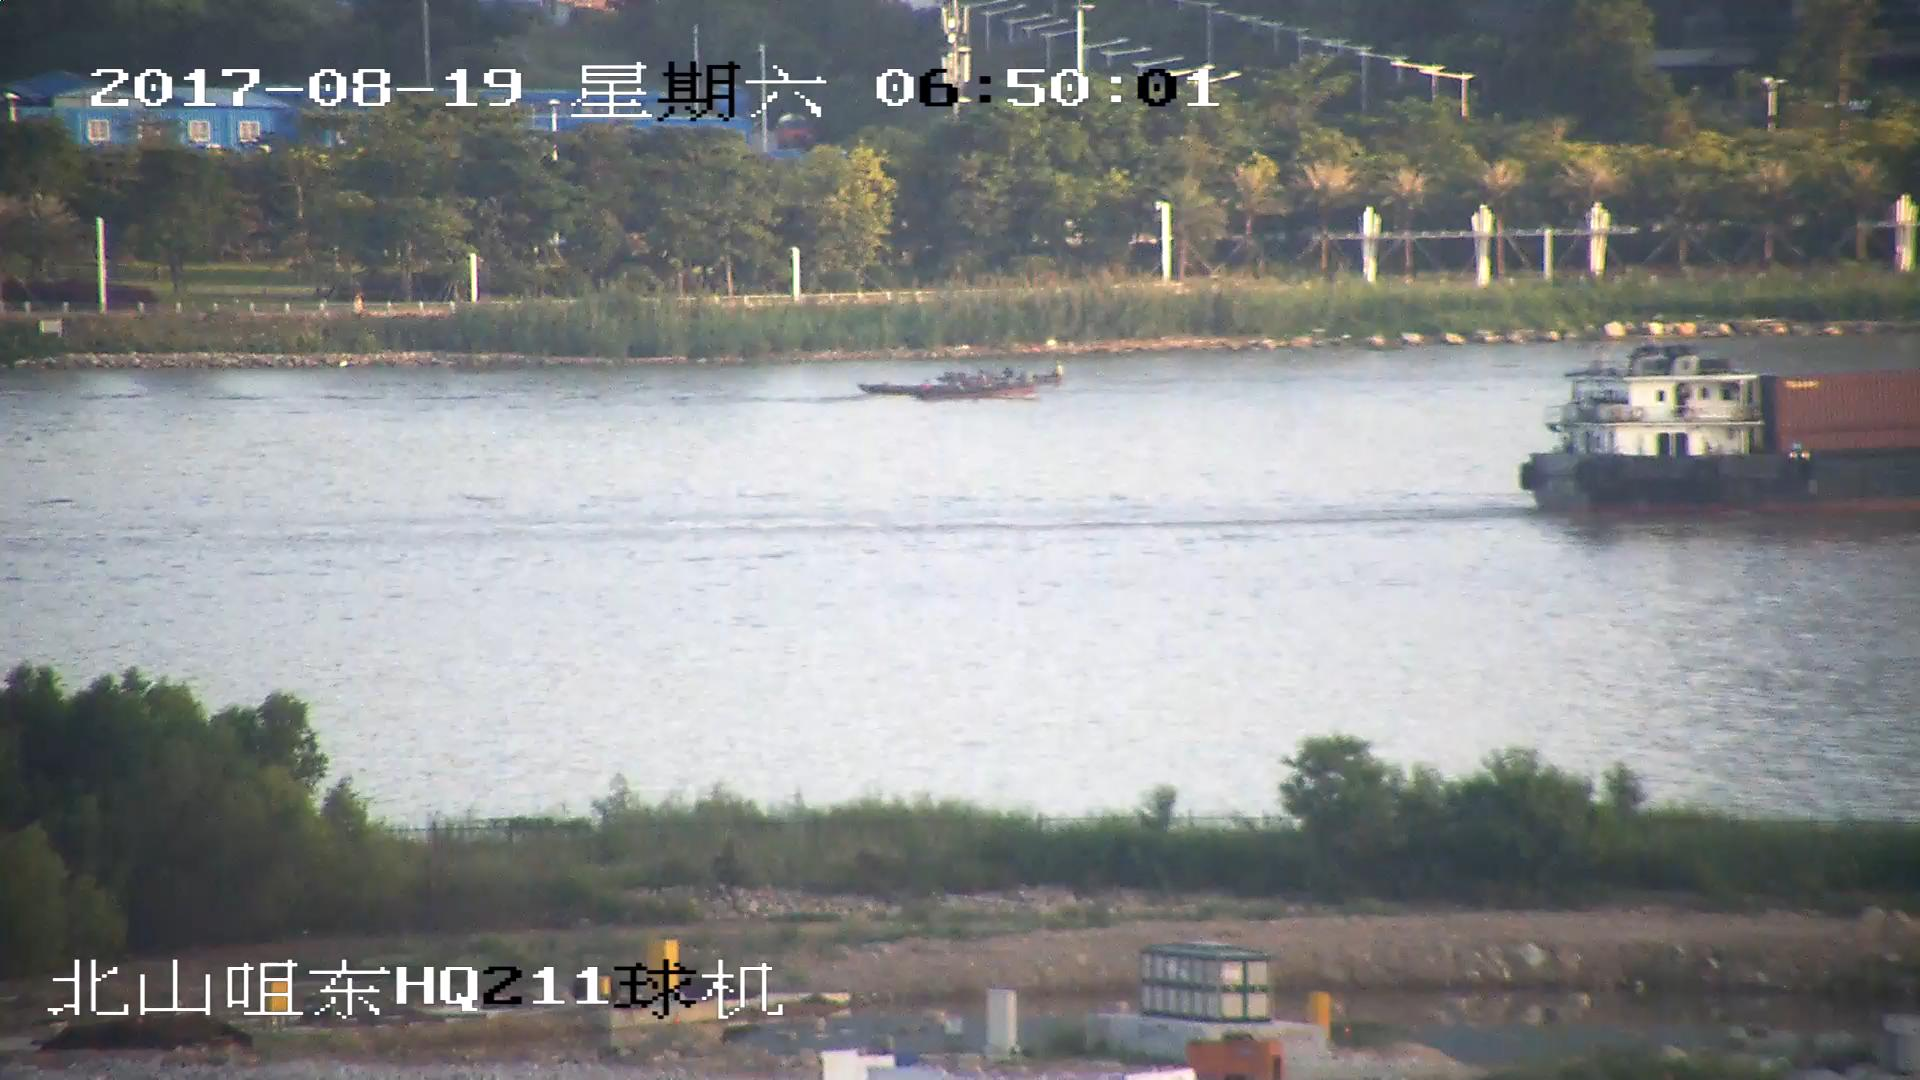container ship: (1512, 350, 1920, 516)
fishing boat: (861, 360, 1066, 400)
